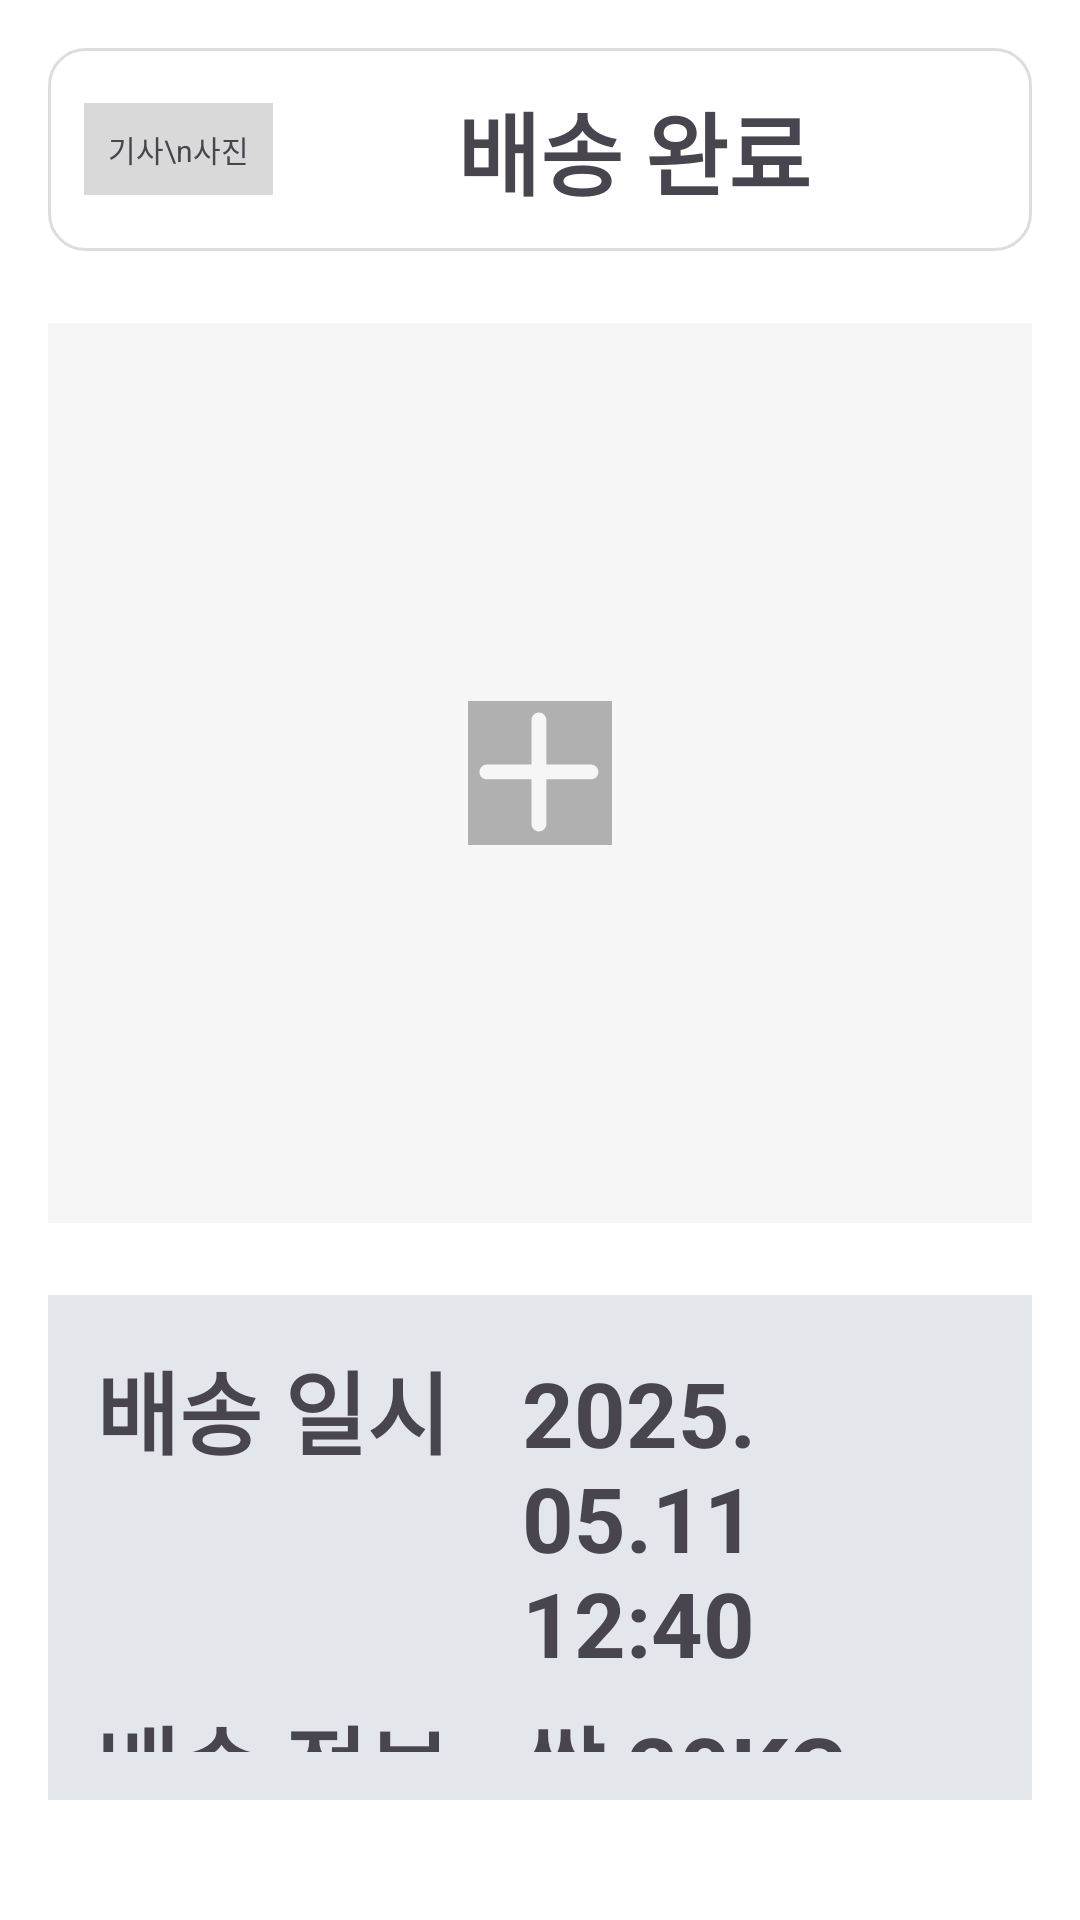

Screen size 1080 × 1920. Icon name, then its box in pixels as (x1, y1, x2, y2):
사진 추가 버튼: (468, 701, 612, 845)
